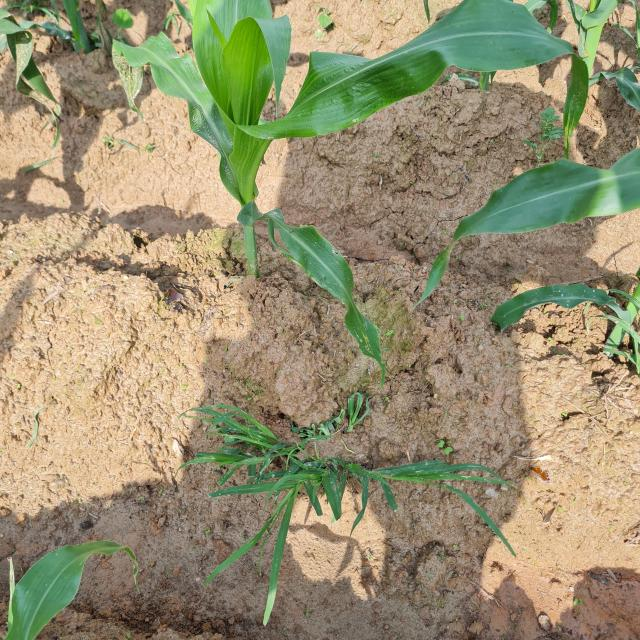maize: (101, 5, 448, 356), (0, 496, 135, 639), (516, 250, 640, 392), (0, 1, 121, 111), (532, 0, 640, 90)
weed: (172, 383, 534, 620)
